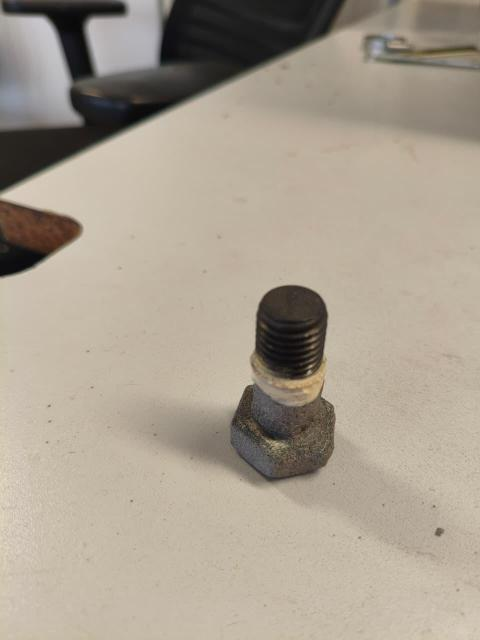Metal: (227, 280, 347, 482)
